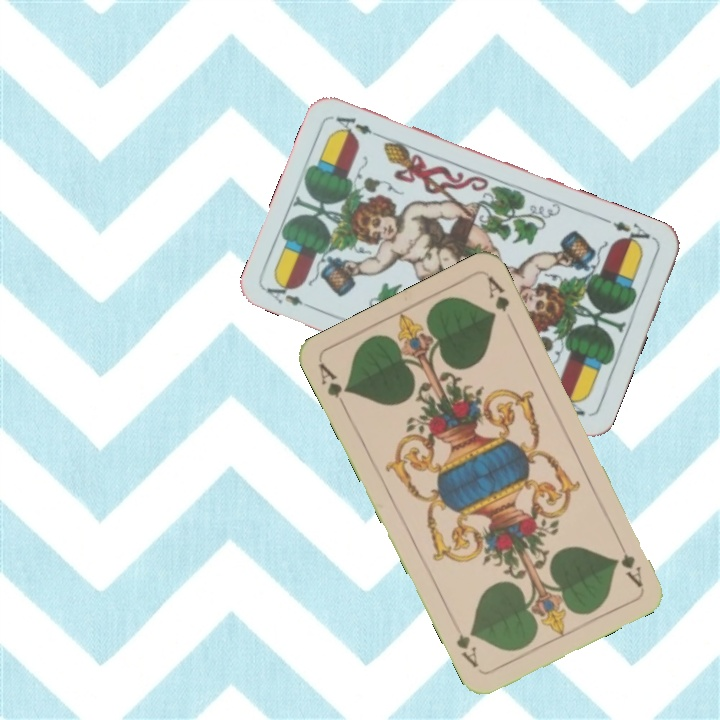EA: (262, 276, 319, 313), (601, 215, 658, 250)
GA: (314, 359, 352, 413), (614, 534, 645, 590)
